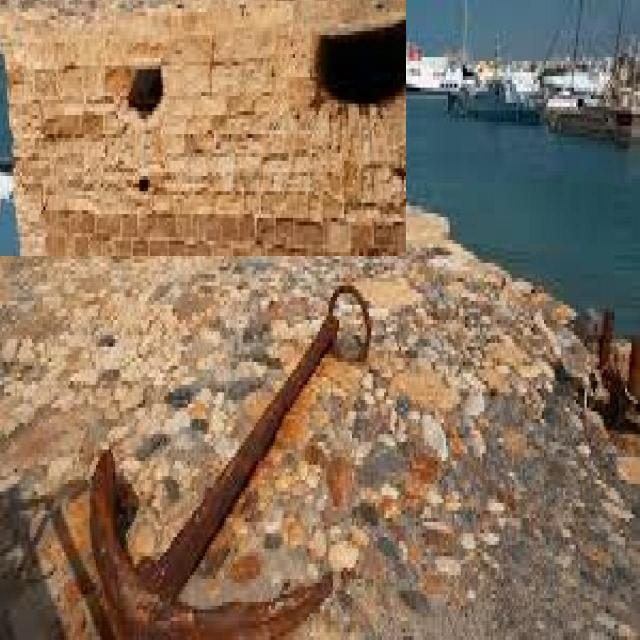Kules: (1, 1, 407, 257)
